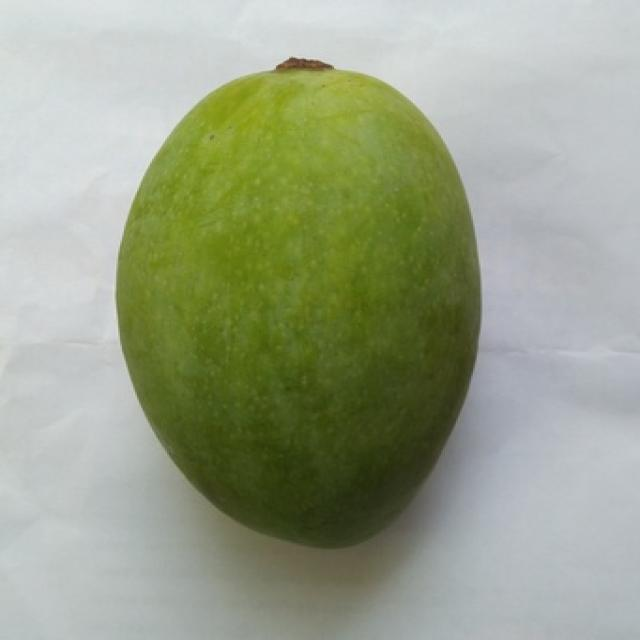Mango: (116, 62, 479, 546)
